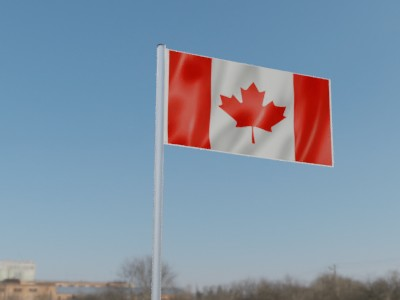Canada flag: (167, 46, 337, 170)
